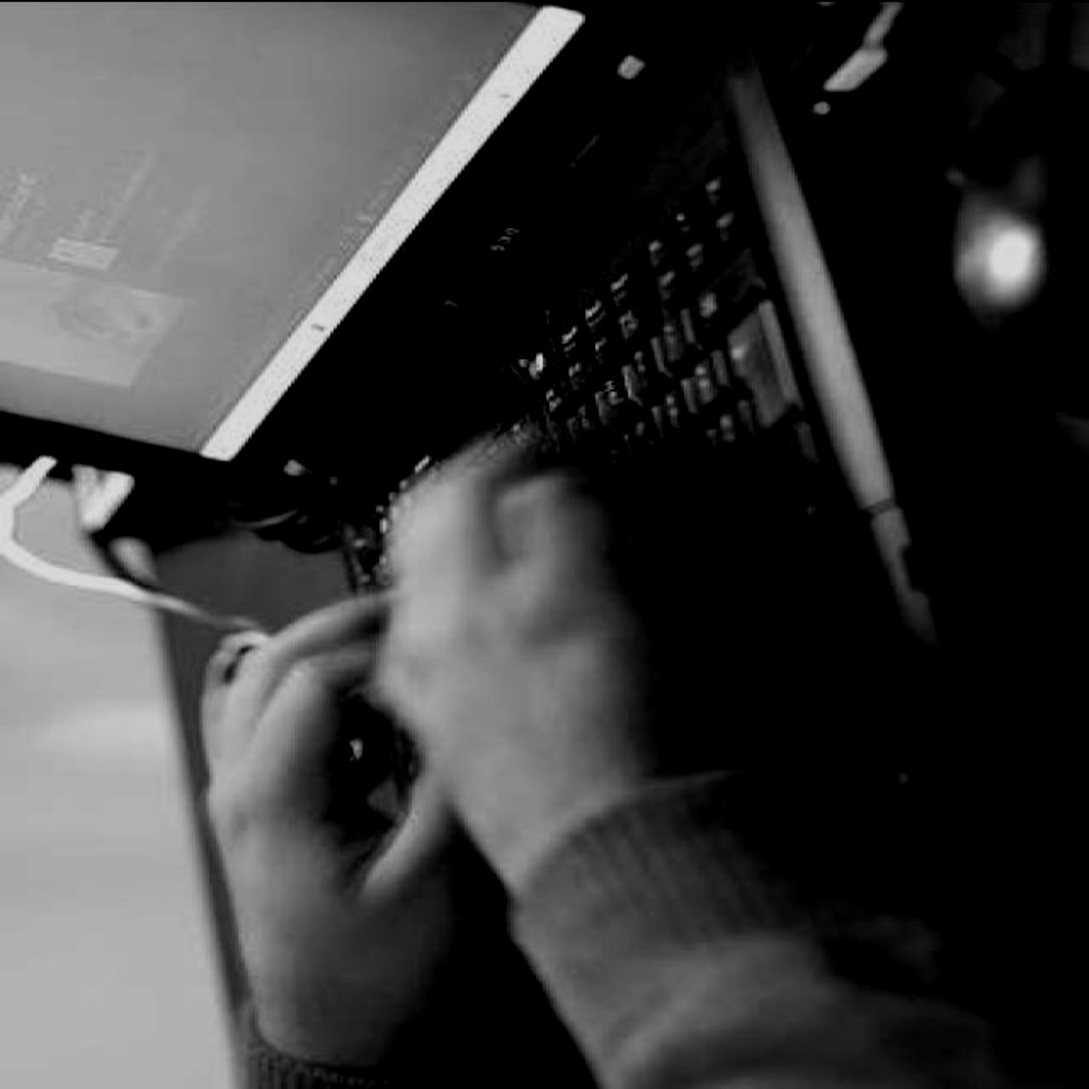laptop: (82, 0, 939, 864)
